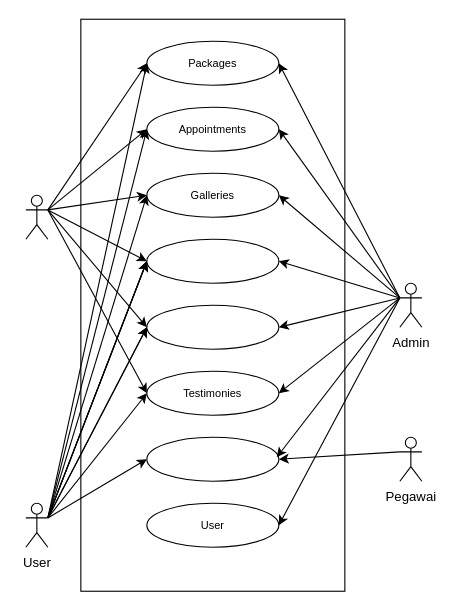
Image size: 455x611. Some labels were removed from this diagram. The centre of each missing label's shape, as x and y in pixels:
"Articles" goes at pixel 212 326.
"Contacts" goes at pixel 212 260.
"Transactions" goes at pixel 212 458.
"Visitor" goes at pixel 36 216.
